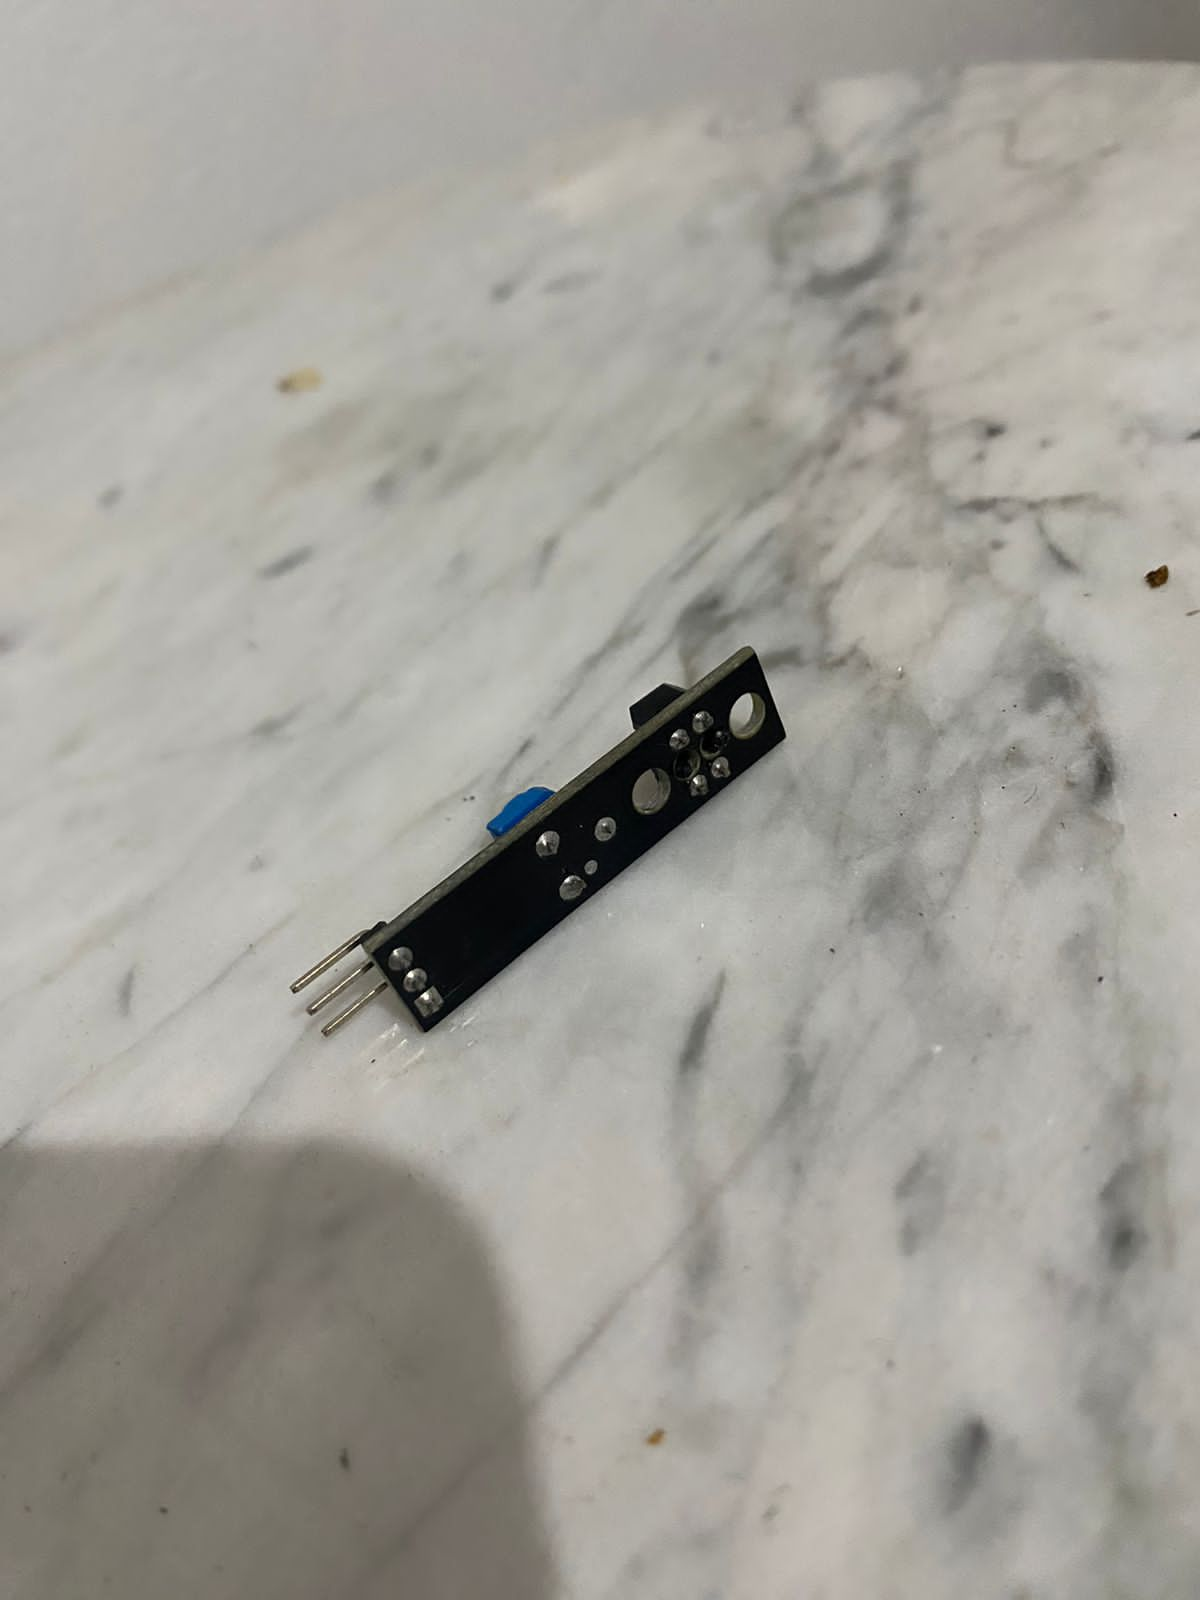ir-sensor: (299, 634, 775, 1047)
